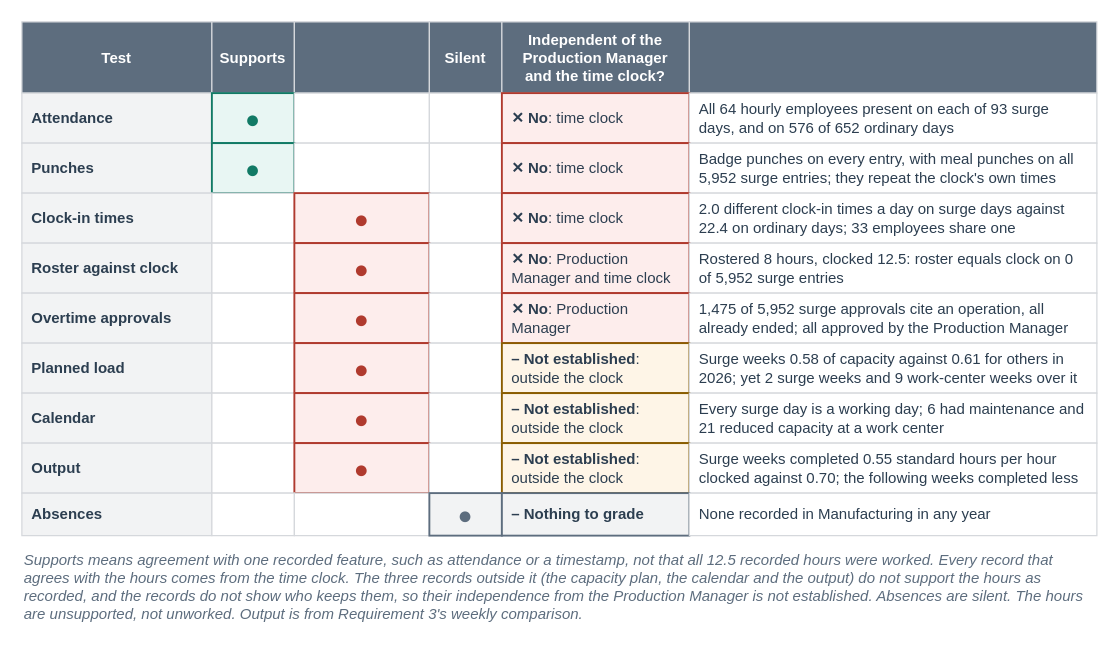
Image size: 1119x653. Some labels were removed from this diagram. Here are the shapes that lost their labels. From the top down, the centre of each, then its label:
the point at 361,57: Contradicts or unexplained
the point at 892,57: What the test found
